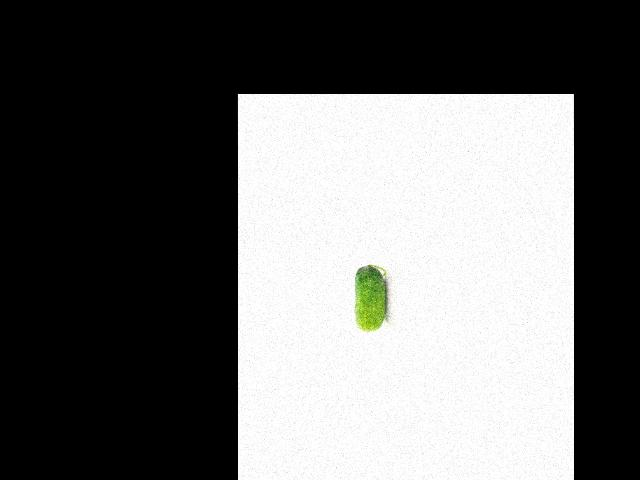cucumber: (354, 265, 386, 332)
